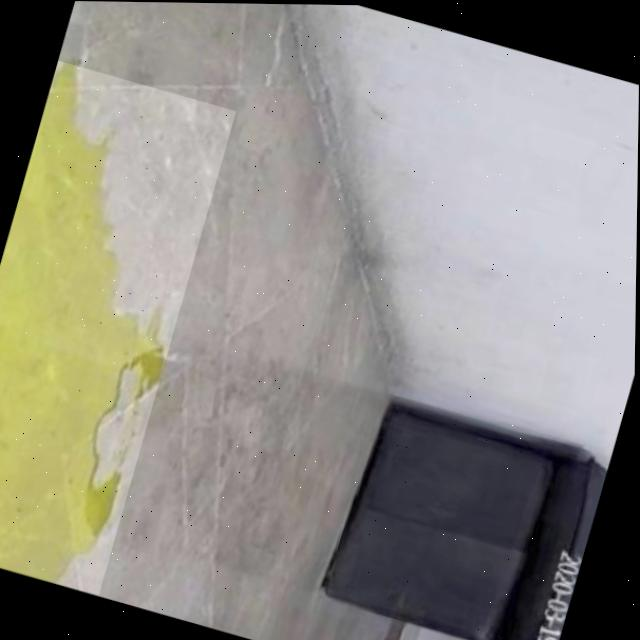spillage: (0, 62, 165, 582)
